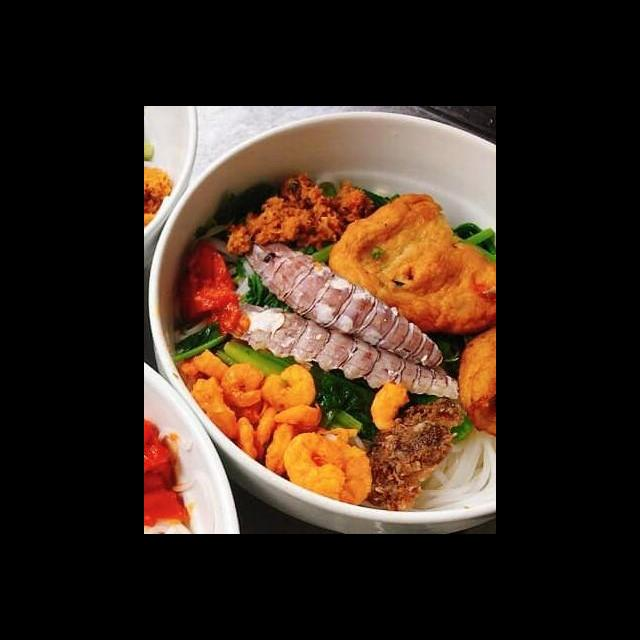bun: (409, 425, 496, 512)
bun hai san: (168, 150, 496, 527)
tom: (281, 428, 354, 508), (255, 359, 321, 413), (217, 358, 270, 408)
tom tit: (241, 234, 447, 371), (226, 296, 464, 404)
